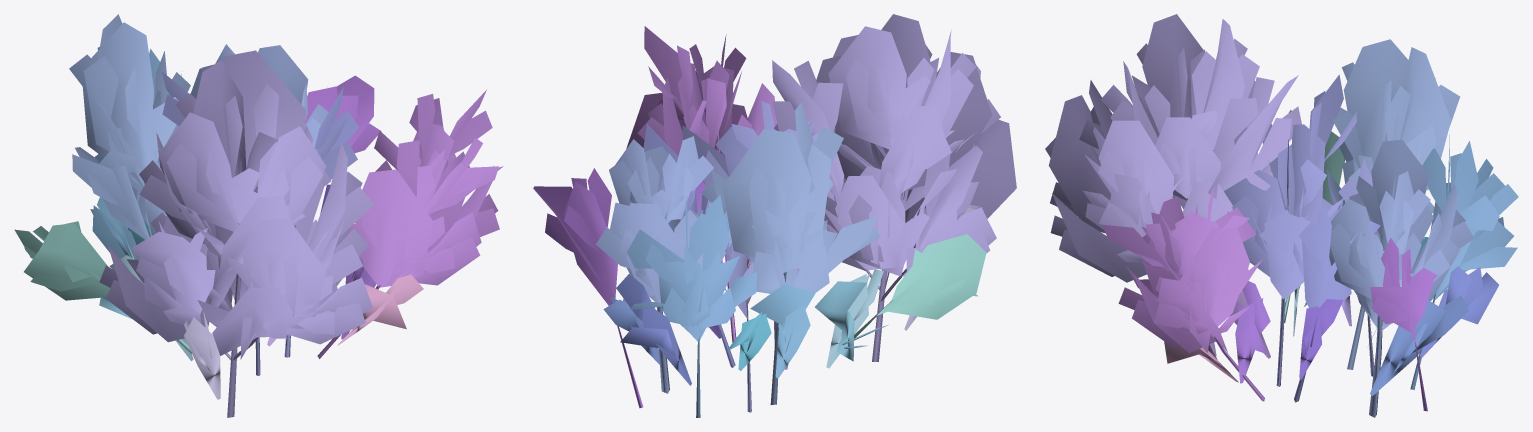
3 renders of one model, left to right at view 1: azimuth 30°, elevation 25°; view 2: azimuth 150°, elevation 25°; view 3: azimuth 270°, elevation 25°, orthographic. The views are drawn at different scales.
Parts seen in each view (by area): view 1: SM_BS_Ephedra_96cm_HD; view 2: SM_BS_Ephedra_96cm_HD; view 3: SM_BS_Ephedra_96cm_HD.
Part boxes in pixels (x1,y1,x2,y2): SM_BS_Ephedra_96cm_HD: [14, 14, 503, 417]; SM_BS_Ephedra_96cm_HD: [533, 14, 1016, 417]; SM_BS_Ephedra_96cm_HD: [1045, 14, 1518, 417].
Size of the model in its own units: 54.94 by 52.29 by 42.42.
